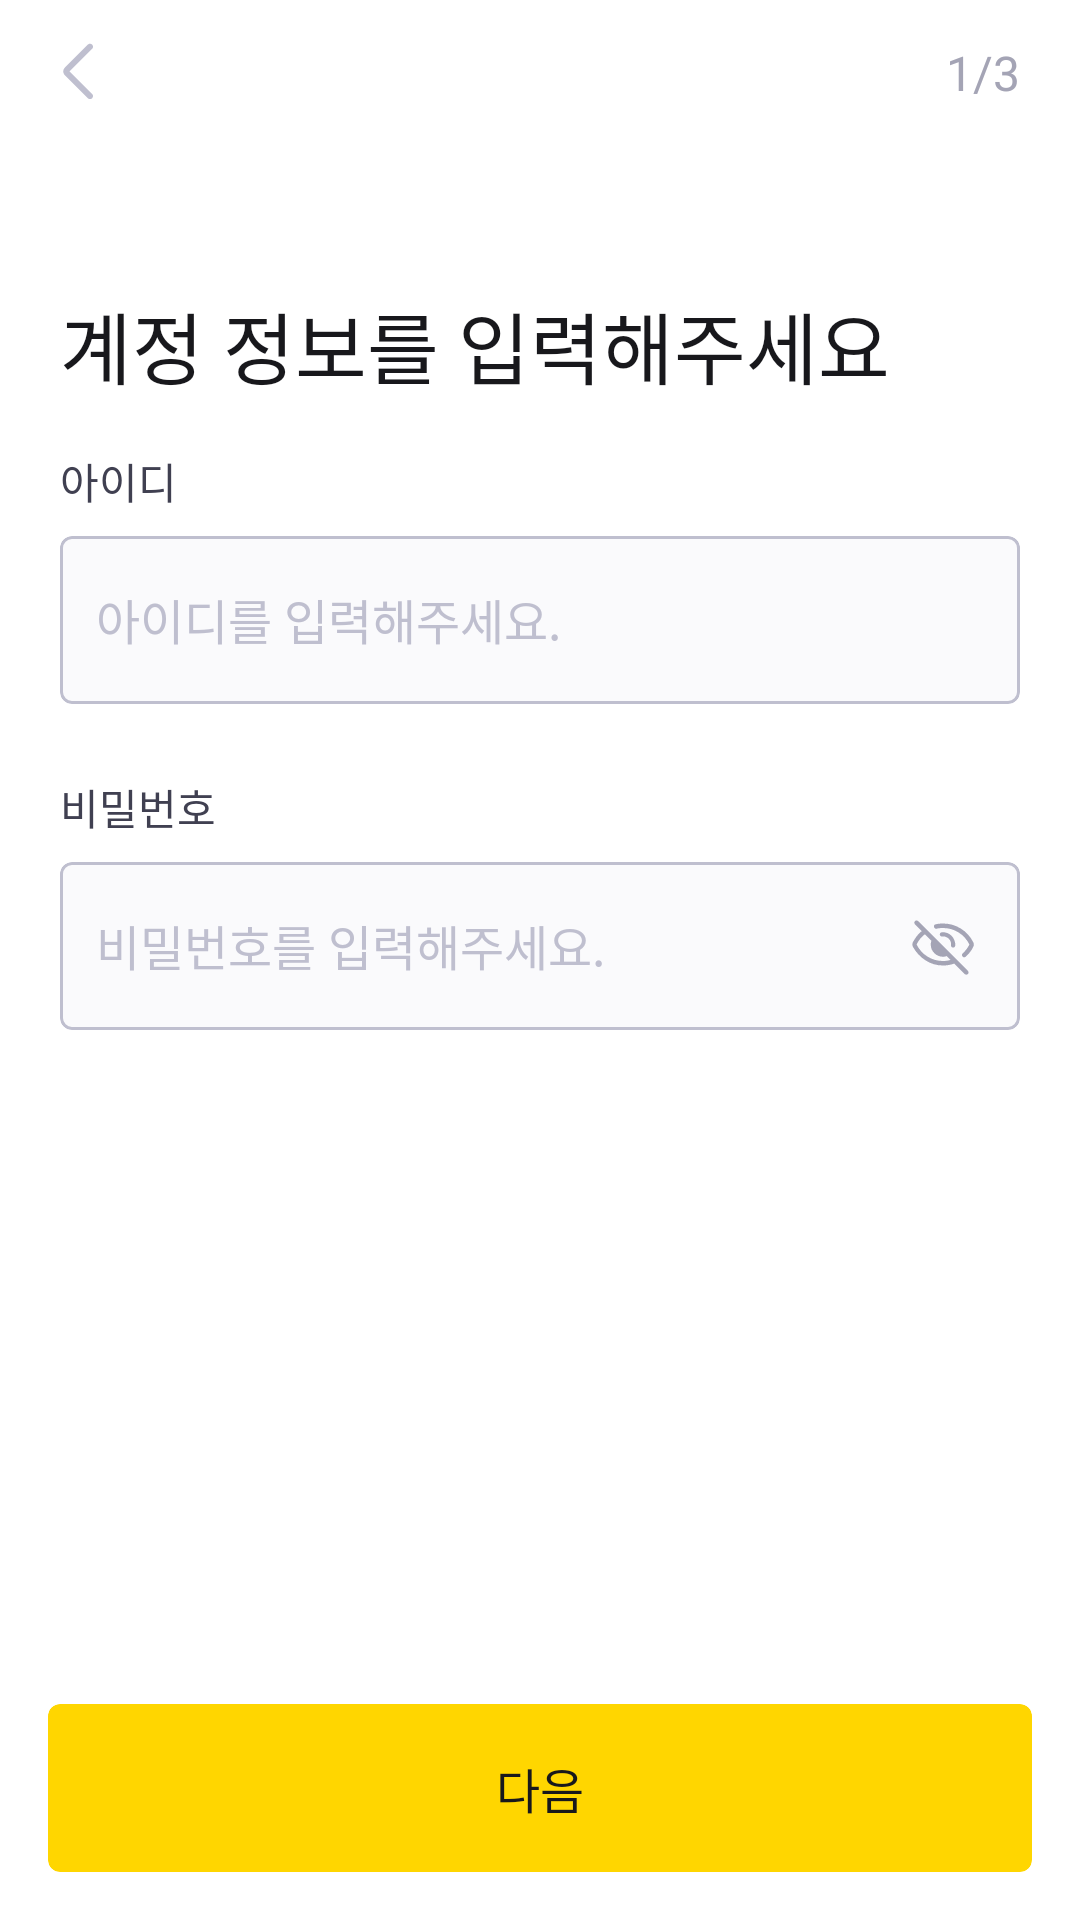

Where icons sit on this 1080px×1920px app screen, as (x1, y1, x2, y2):
arrow back: (63, 44, 93, 99)
